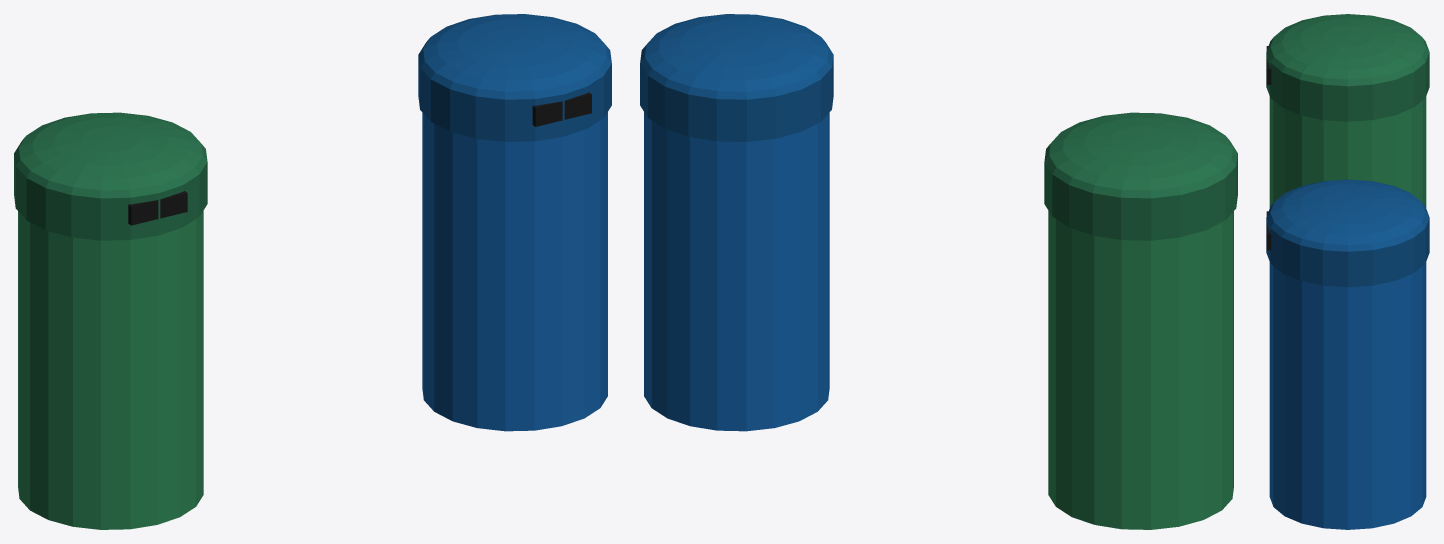
Rendered from trash_can.glb.
The picture shows the model from 3 angles, left to right: view 1: azimuth 30°, elevation 25°; view 2: azimuth 150°, elevation 25°; view 3: azimuth 270°, elevation 25°; orthographic projection. The views are drawn at different scales.
Visible parts, largest first — view 1: TrashCan_Green, TrashCan_Blue; view 2: TrashCan_Green, TrashCan_Blue; view 3: TrashCan_Blue, TrashCan_Green.
Part boxes in pixels (x1=…): TrashCan_Green: x1=14, y1=112, x2=207, y2=529; TrashCan_Blue: x1=418, y1=14, x2=611, y2=431; TrashCan_Green: x1=1044, y1=112, x2=1237, y2=529; TrashCan_Blue: x1=640, y1=14, x2=833, y2=431; TrashCan_Blue: x1=1266, y1=179, x2=1429, y2=529; TrashCan_Green: x1=1266, y1=14, x2=1429, y2=207.
Size of the model in its own units: 0.17 by 0.1 by 0.05.
